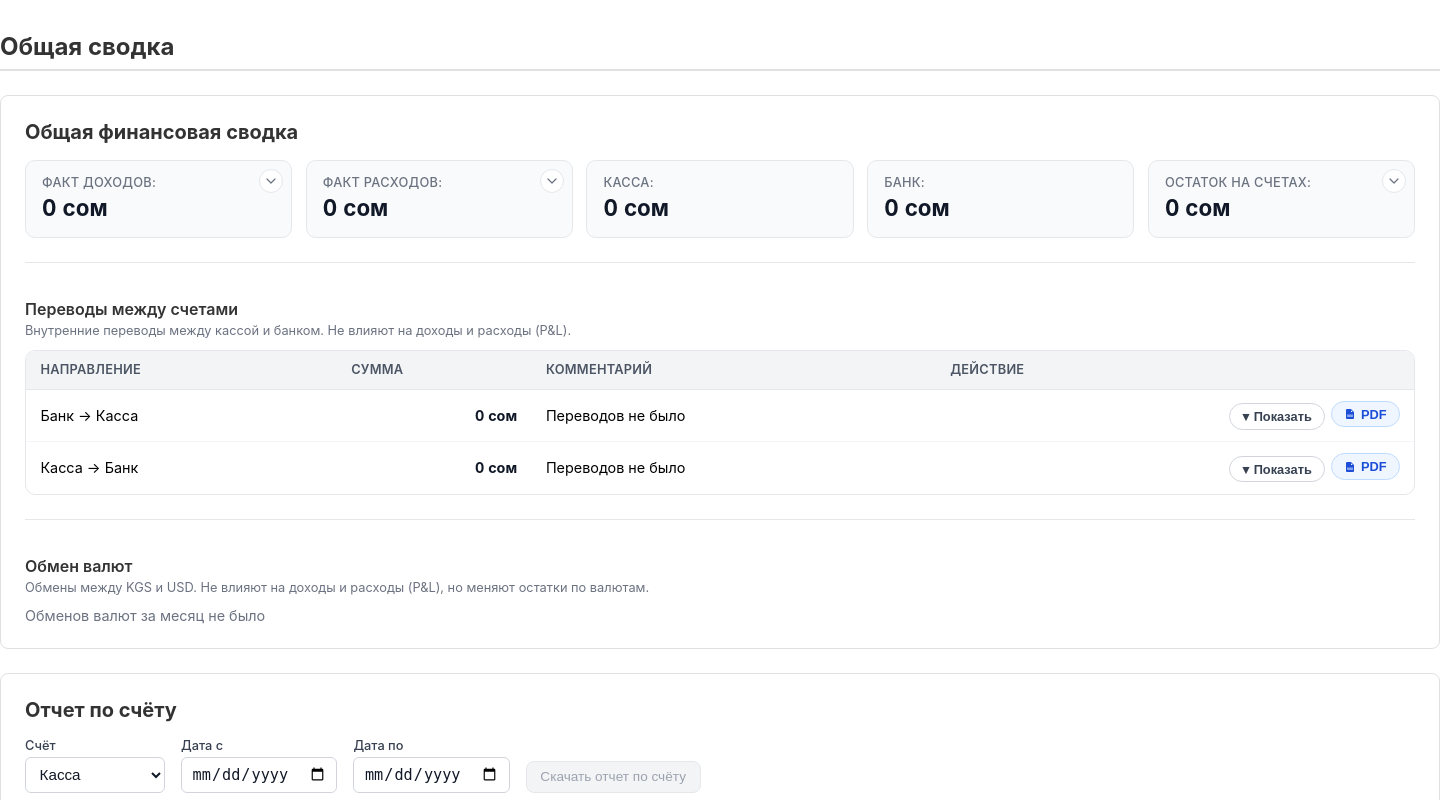
Test case: GlobalSummary section PDF export › shows the export action only for the opened section
Expected: the button "Скачать PDF" is not shown
Click the button named "Показать детализацию доходов по источникам" at (271, 181), box [259,169,283,193]
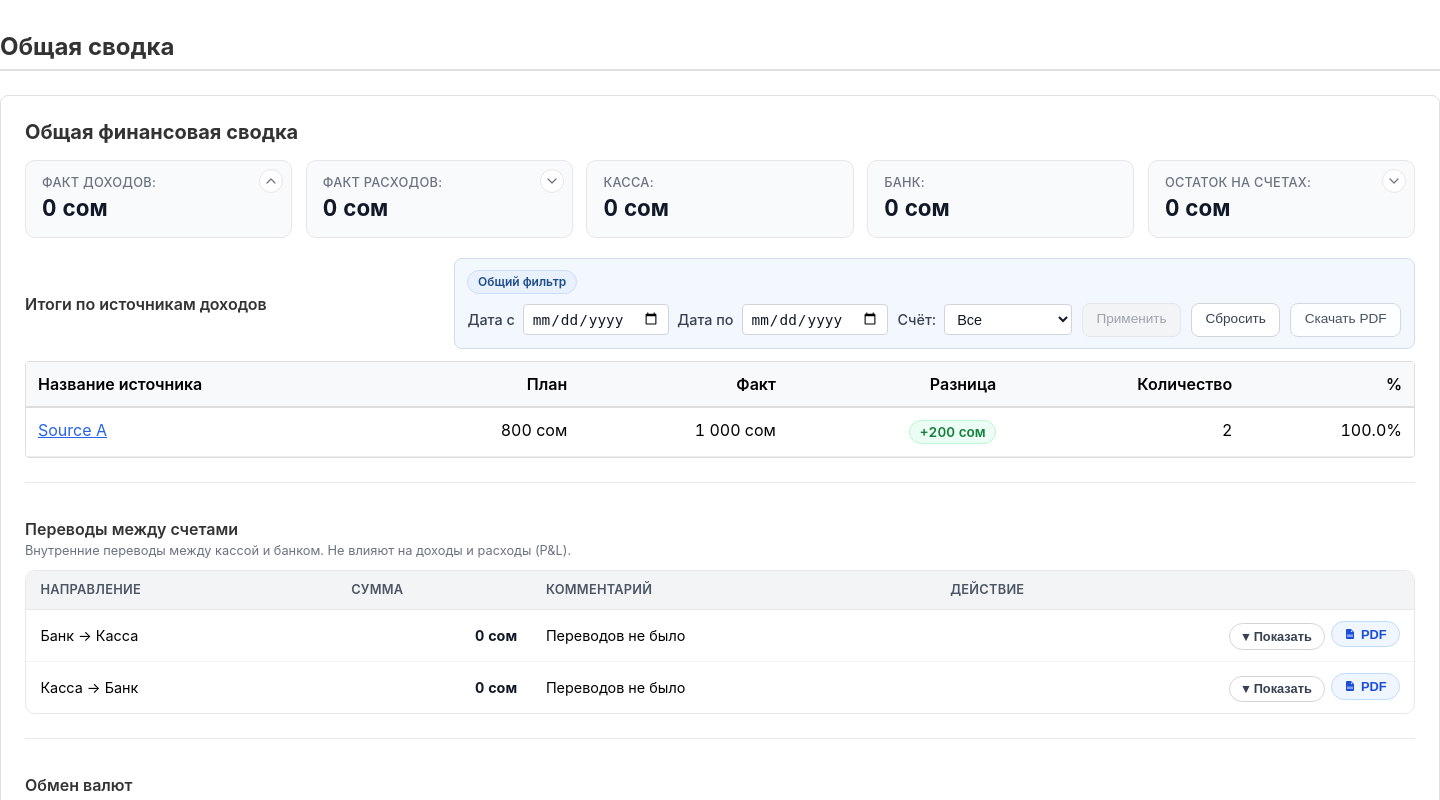
Expected: the button "Скачать PDF" is shown, [1290,303,1401,337]
Expected: the heading "Итоги по источникам доходов" is shown, [25,294,267,314]
